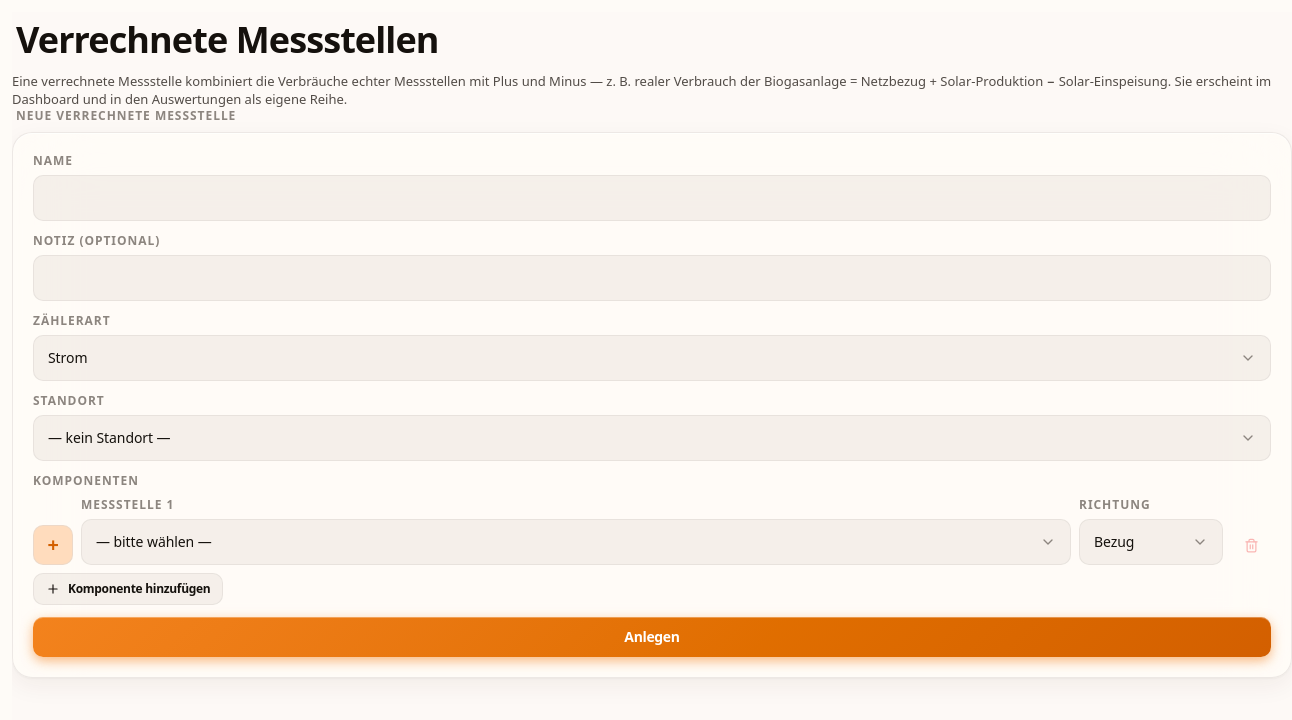
Test: VirtualPointsAdminPage › zeigt einen 422-Fehler des Backends im Formular
In the field labelled "Name": (652, 198) x1=48 y1=176 x2=1256 y2=220, type "Kaputt"
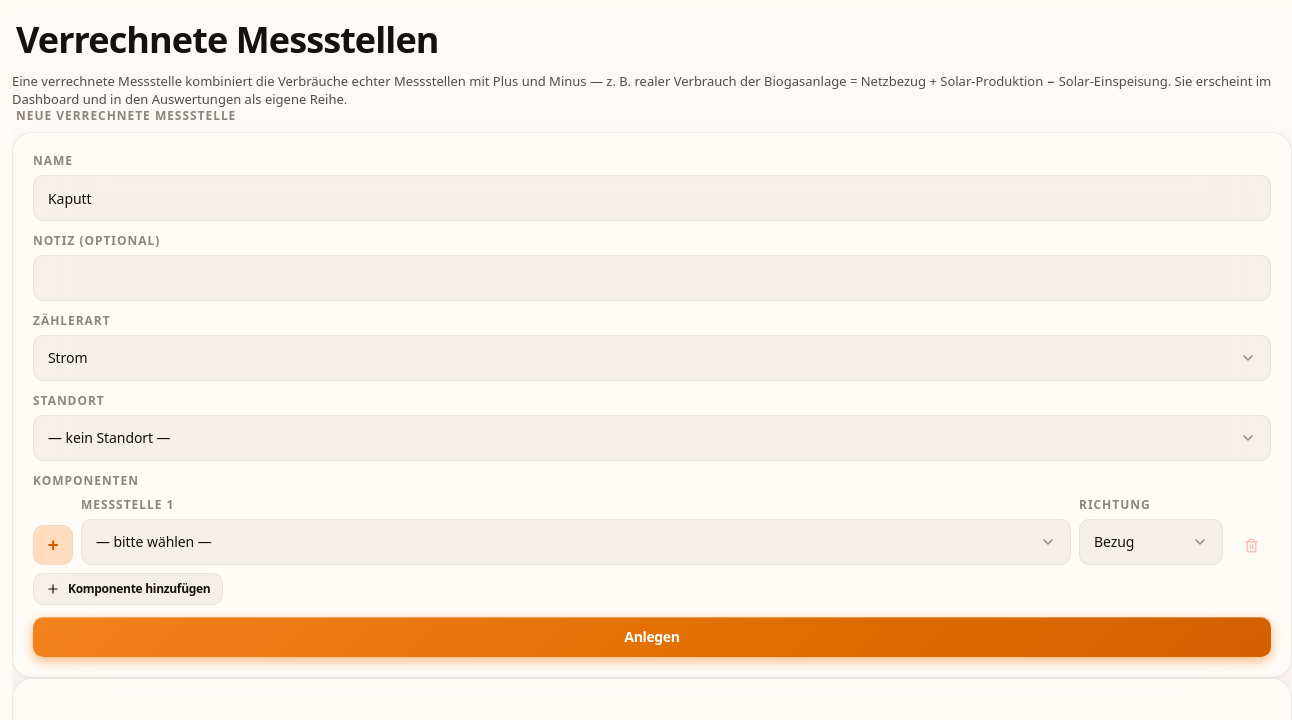
Select "Biogas-Trafo" in the dropdown labelled "Messstelle 1": (574, 542) x1=96 y1=520 x2=1052 y2=564
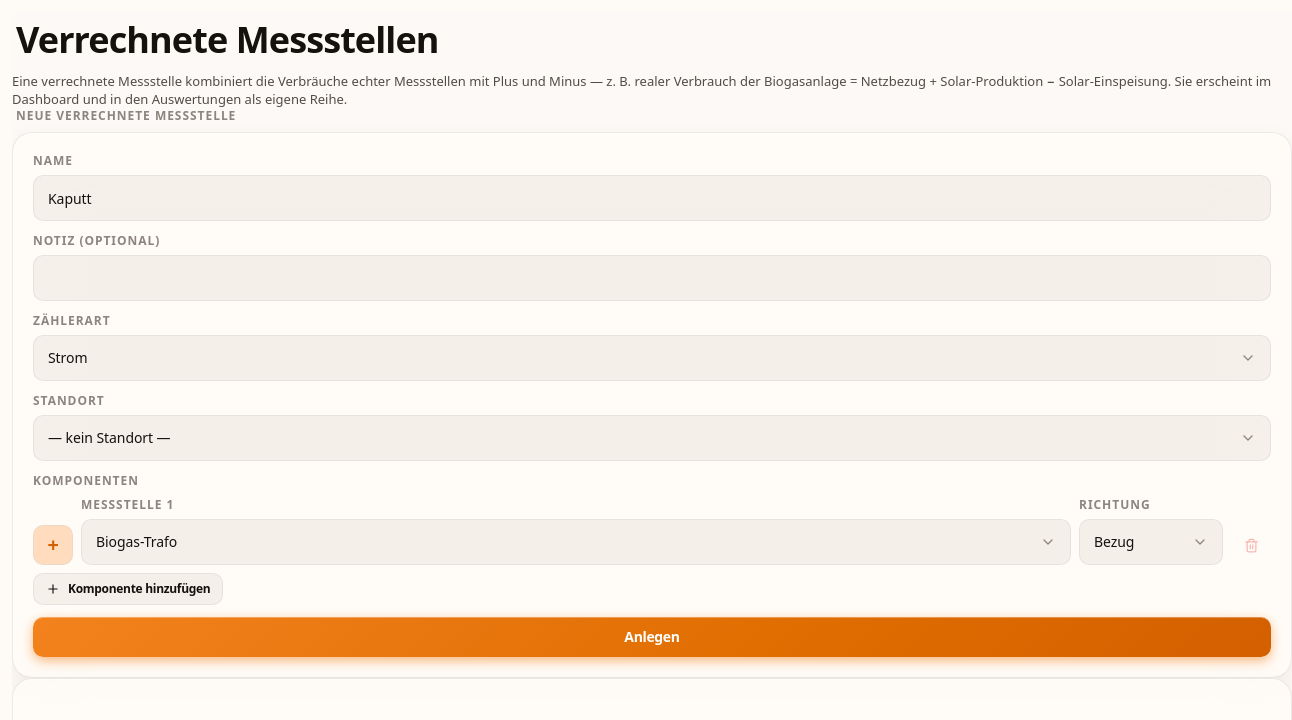
Click the button "Anlegen": (652, 637) x1=33 y1=617 x2=1271 y2=657
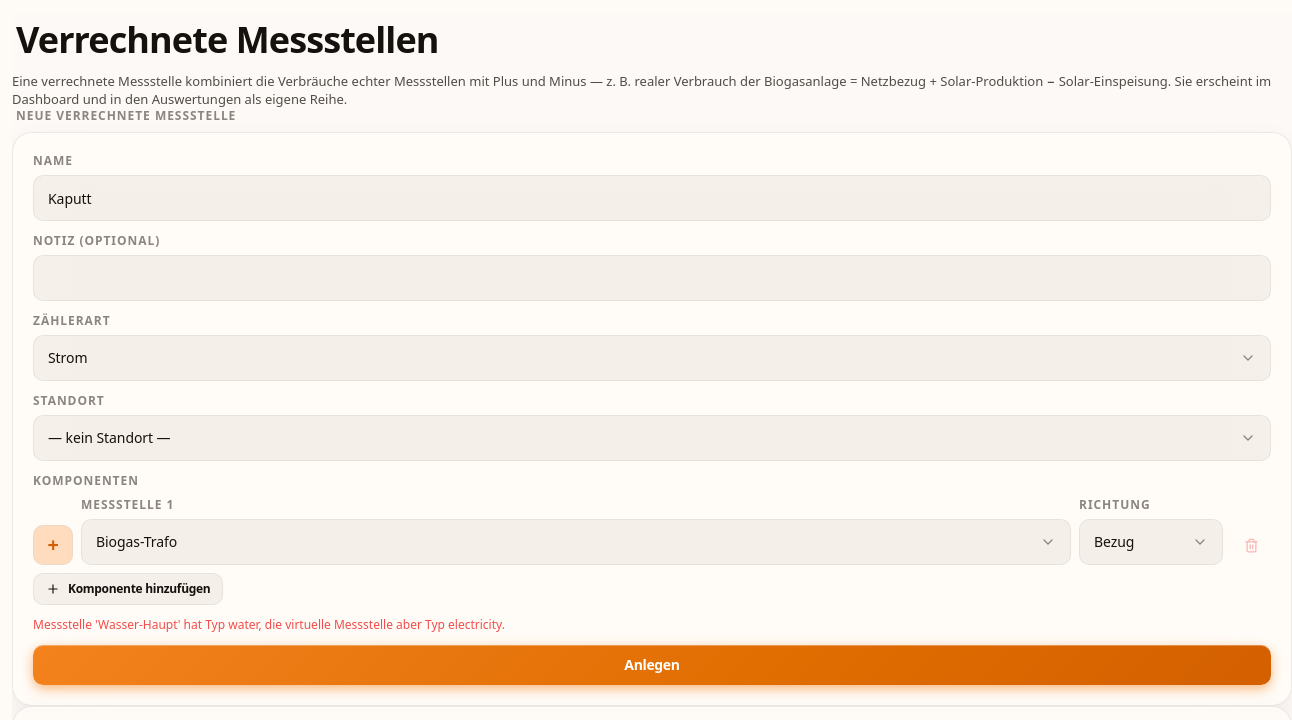
Check: the text "hat Typ water" is shown, box x1=33 y1=616 x2=505 y2=633
